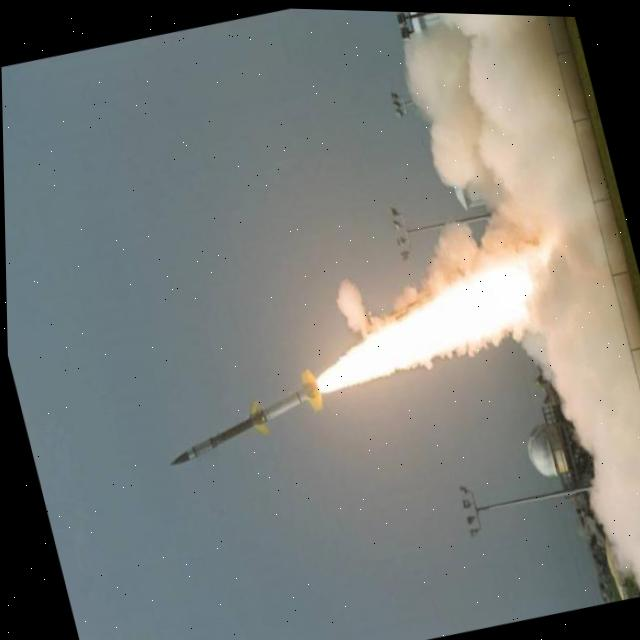missile: (139, 351, 345, 480)
